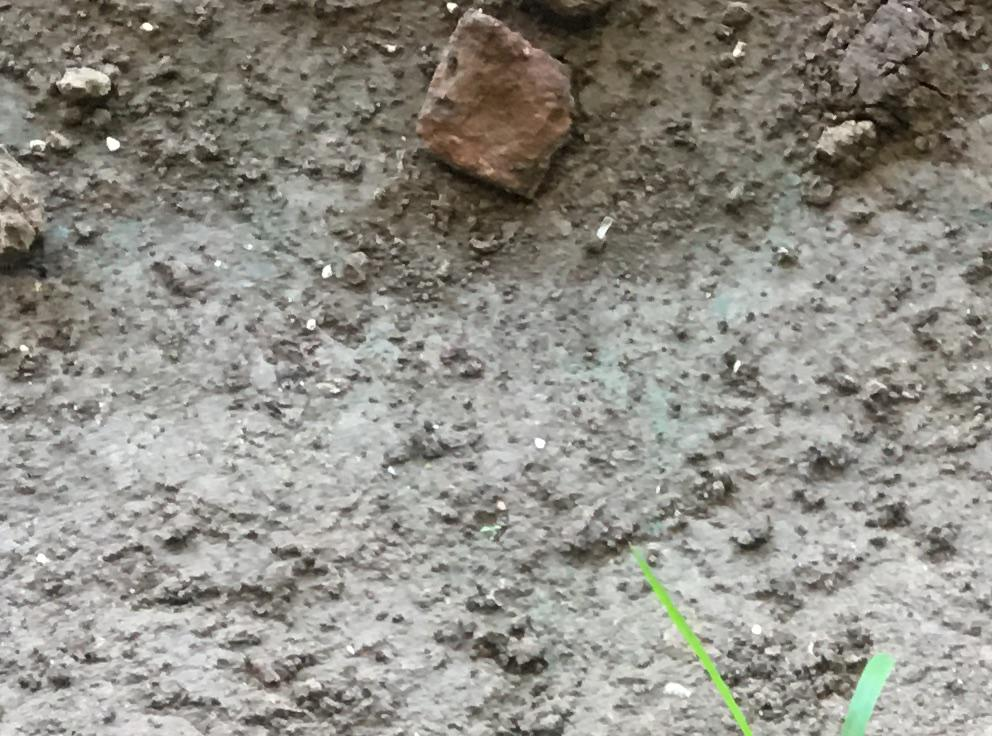block: (411, 12, 572, 199)
